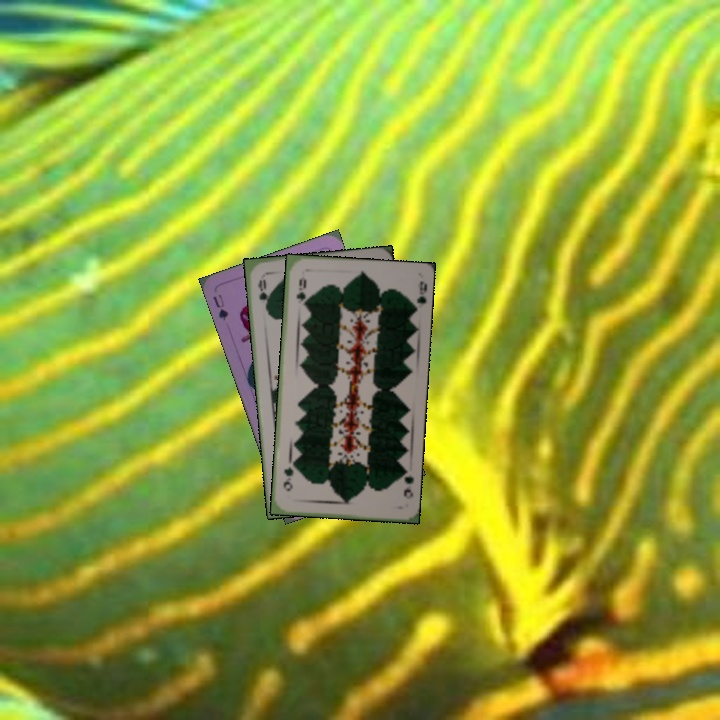G9: (397, 465, 416, 501), (292, 273, 308, 307)
GO: (254, 275, 271, 313)
GU: (208, 290, 231, 323)
